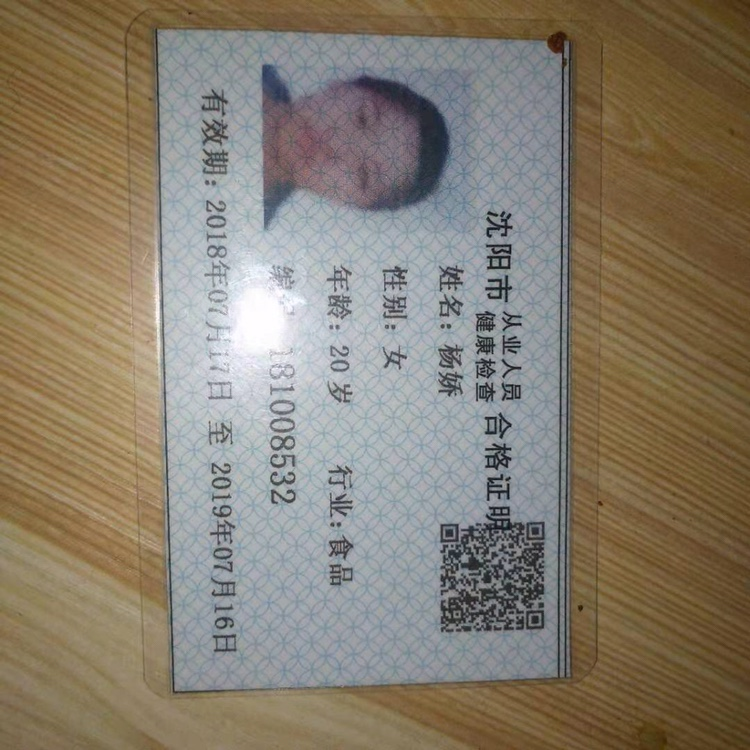qr: (435, 523, 546, 632)
